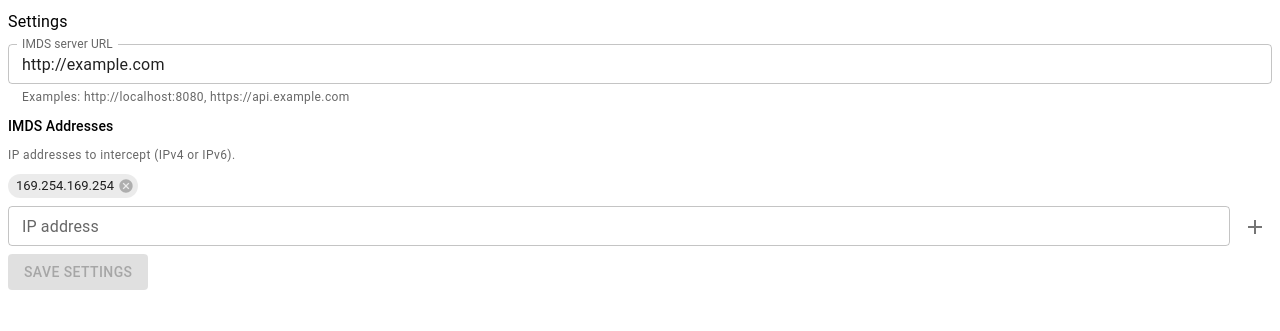
Test: SettingsForm › rejects a duplicate IP address
Type "169.254.169.254" into the field labelled "IP address" at (619, 226), box [8,206,1230,246]
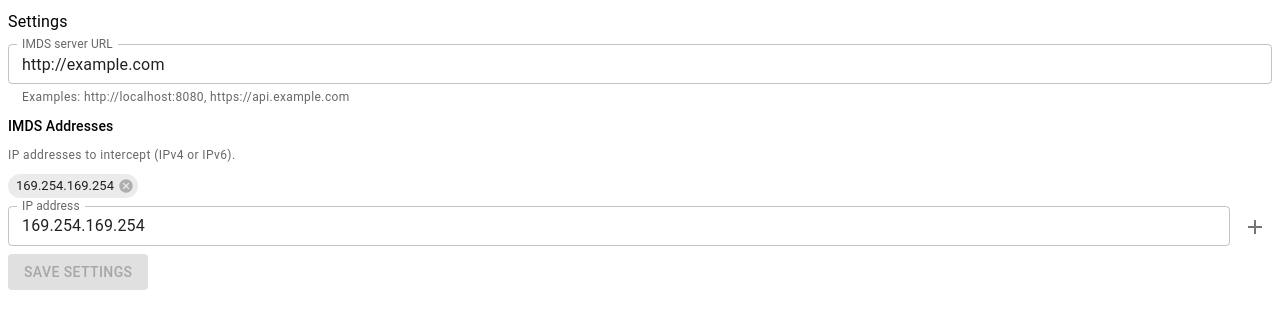
Click the 2nd button at (1255, 227), box [1238,210,1272,244]
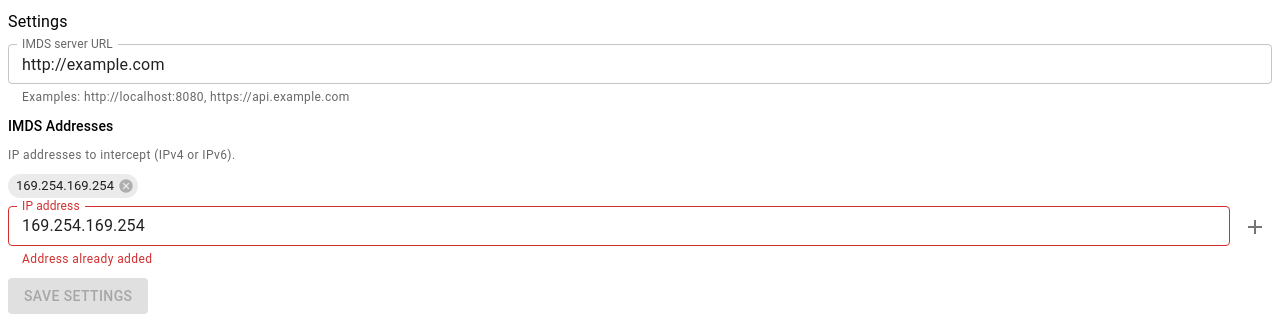
Expected: the text "Address already added" is shown, [22,252,152,266]
